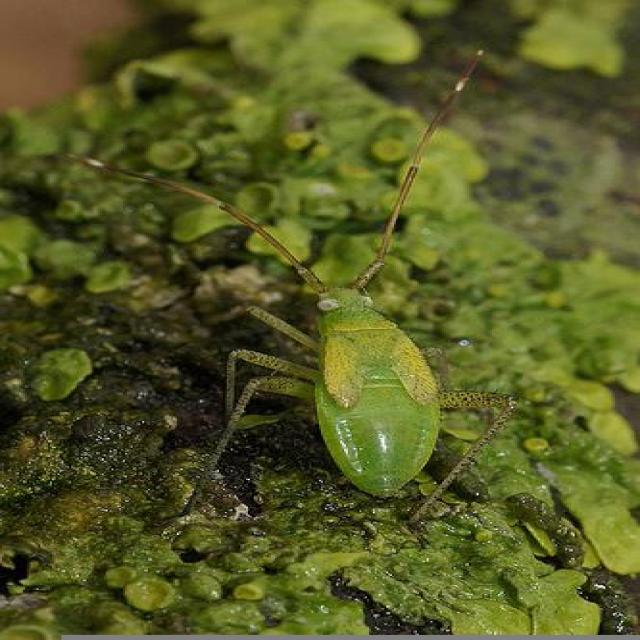Miridae-Adult-: (74, 43, 566, 541)
